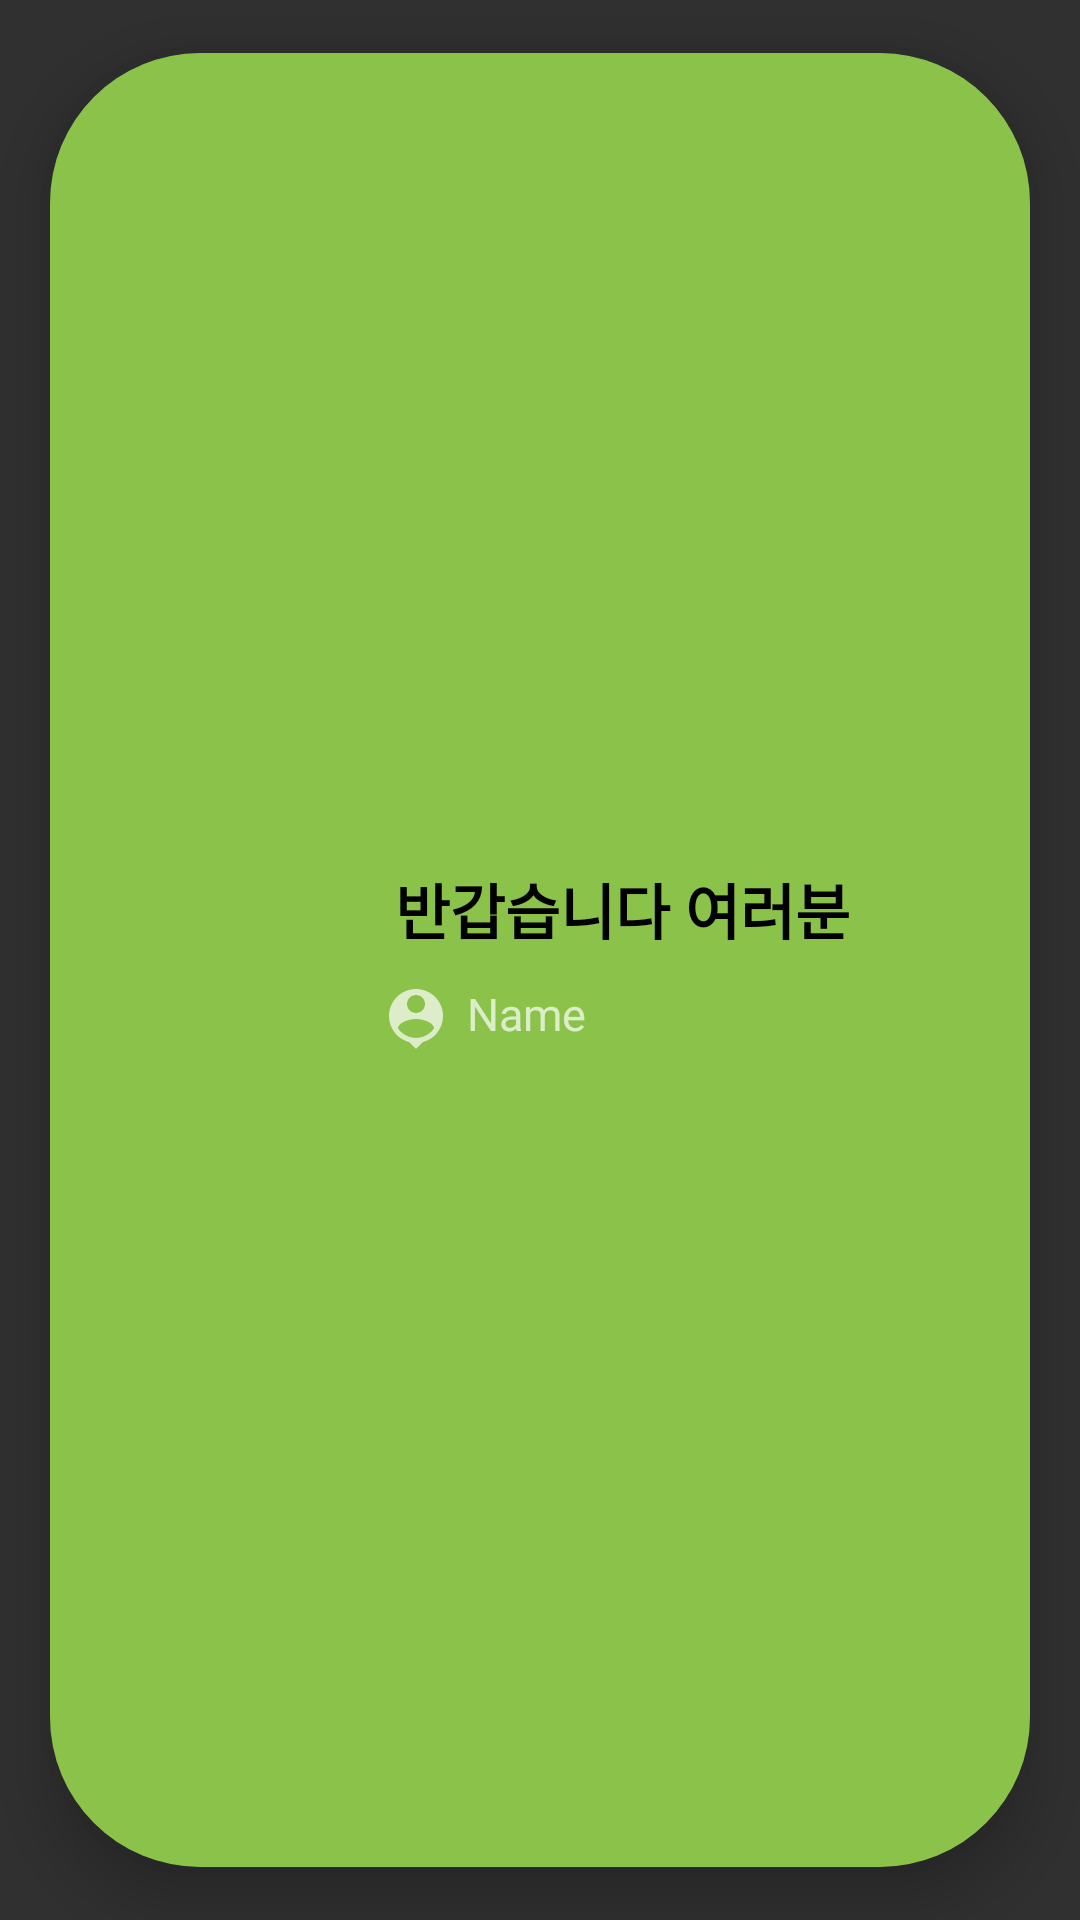

Where to tap for icons on this 1080×1920 app screen, as point (x, y):
person pin: point (416, 1019)
